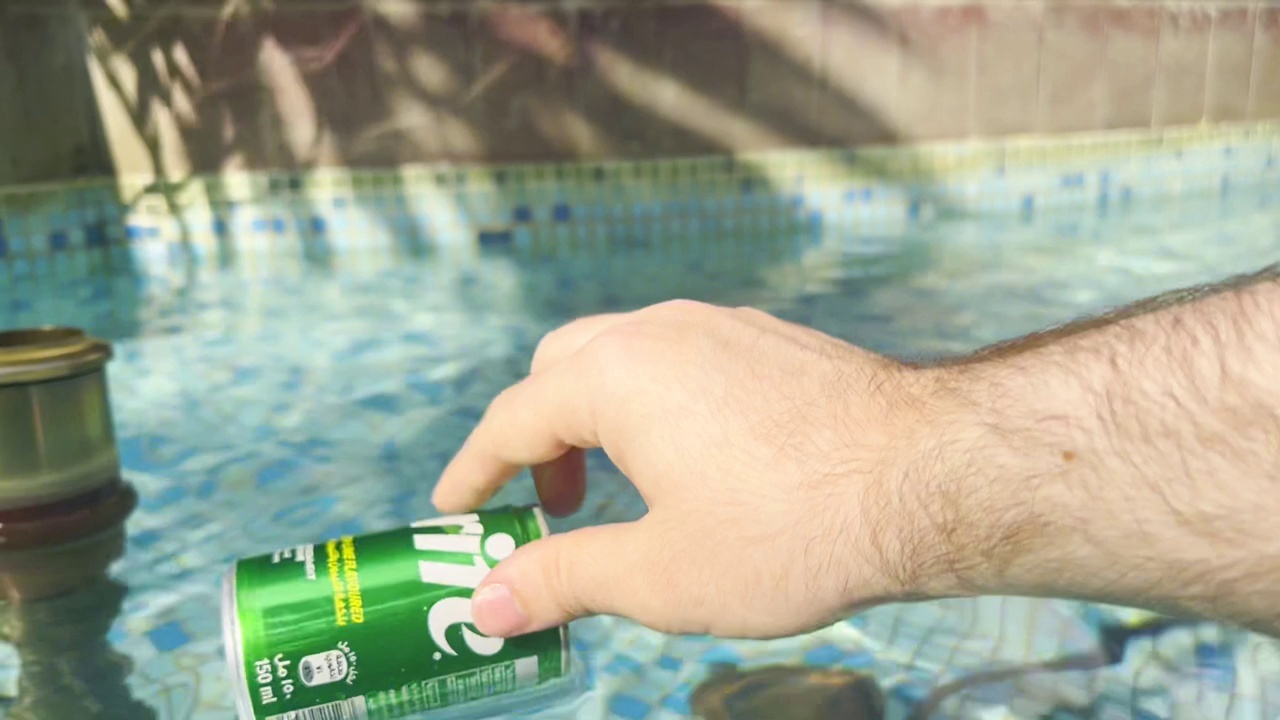debris: (186, 504, 581, 720)
